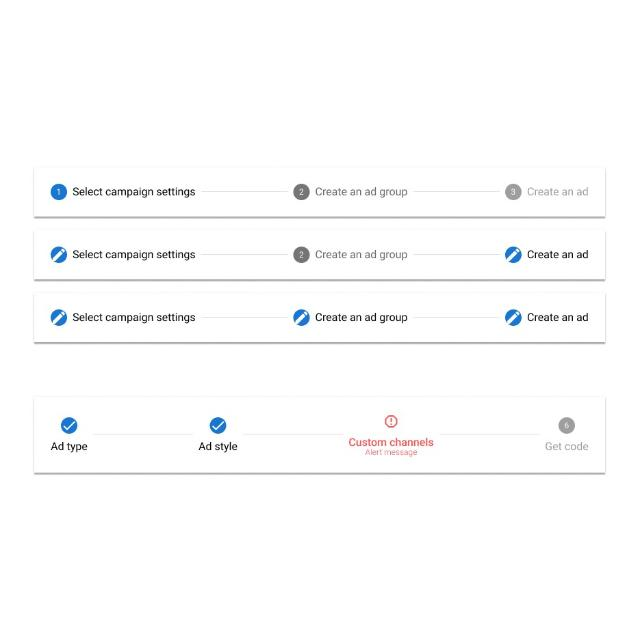QLabel: (72, 248, 196, 262), (72, 185, 196, 199), (348, 438, 434, 458), (71, 313, 195, 325), (314, 312, 408, 326), (315, 249, 407, 261), (315, 186, 407, 198), (526, 186, 588, 198), (526, 313, 588, 323), (528, 250, 588, 260), (545, 442, 589, 452), (50, 442, 88, 453), (198, 442, 238, 452)
VDialog: (412, 190, 500, 193), (200, 190, 288, 193), (200, 254, 288, 256), (413, 254, 499, 256)
VDivider: (200, 316, 288, 320), (414, 316, 501, 320), (242, 434, 344, 436), (438, 434, 540, 436), (93, 434, 193, 436)
VStepper: (34, 397, 606, 475), (33, 166, 604, 218), (33, 230, 605, 280), (33, 293, 604, 343)
